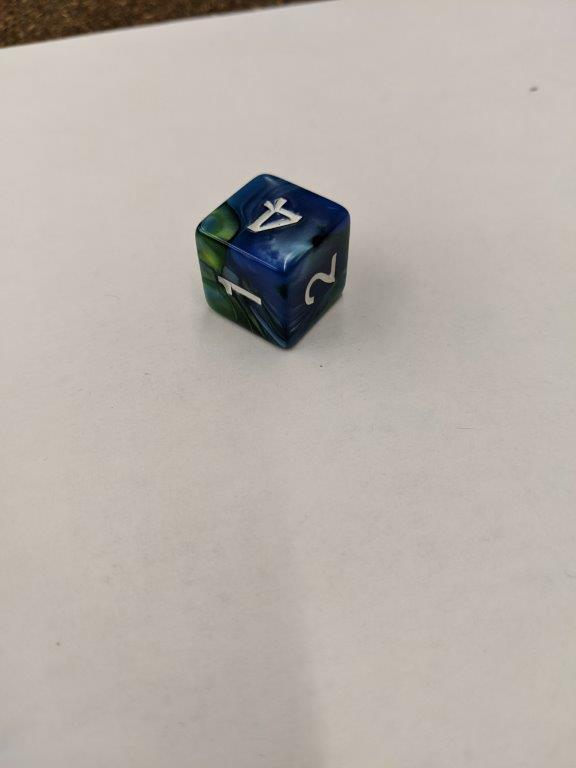d6-4: (193, 172, 352, 348)
